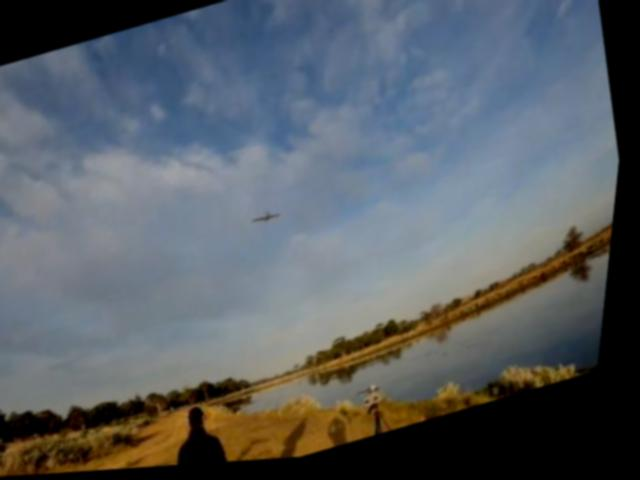uav: (252, 207, 292, 235)
